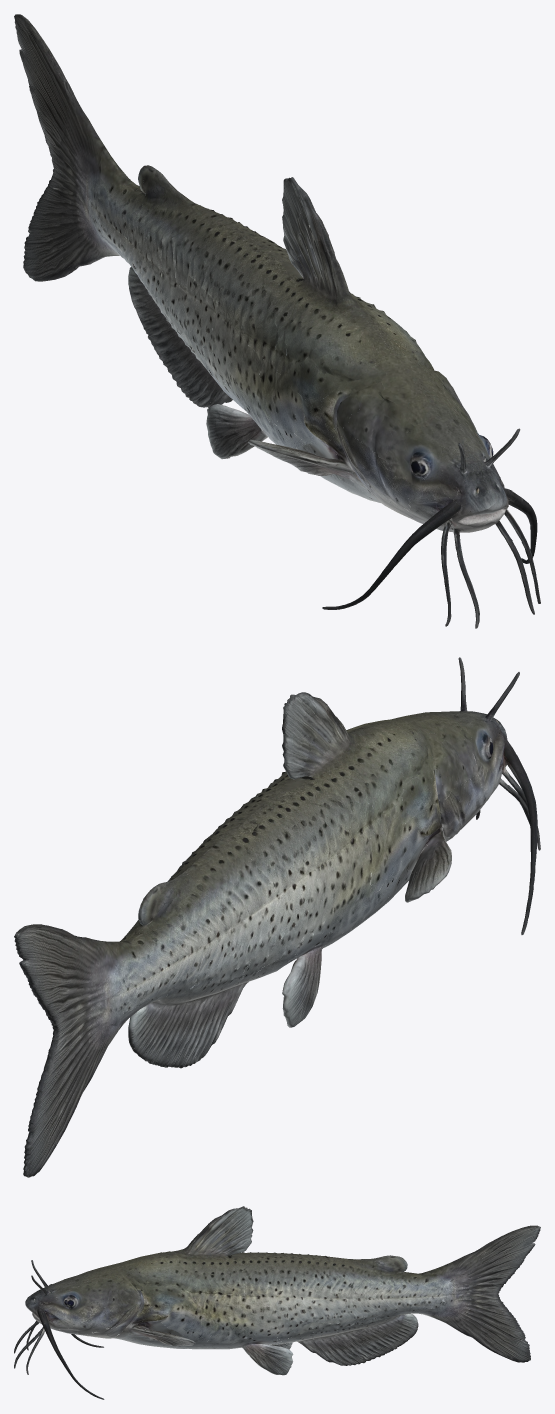
Rendered from sumik_kanalowy.glb.
3 views of the same model, one above another, from view 1: azimuth 30°, elevation 25°; view 2: azimuth 150°, elevation 25°; view 3: azimuth 270°, elevation 25° (orthographic). The views are drawn at different scales.
Visible parts, largest first — view 1: Mesh_0; view 2: Mesh_0; view 3: Mesh_0.
Boxes of the visible parts, x1,y1,x2,y2 form: Mesh_0: (14, 14, 540, 628); Mesh_0: (14, 657, 540, 1177); Mesh_0: (14, 1206, 540, 1399).
Size of the model in its own units: 0.4489 by 0.6672 by 1.9.
Materials: 1 (1 with a texture image).
